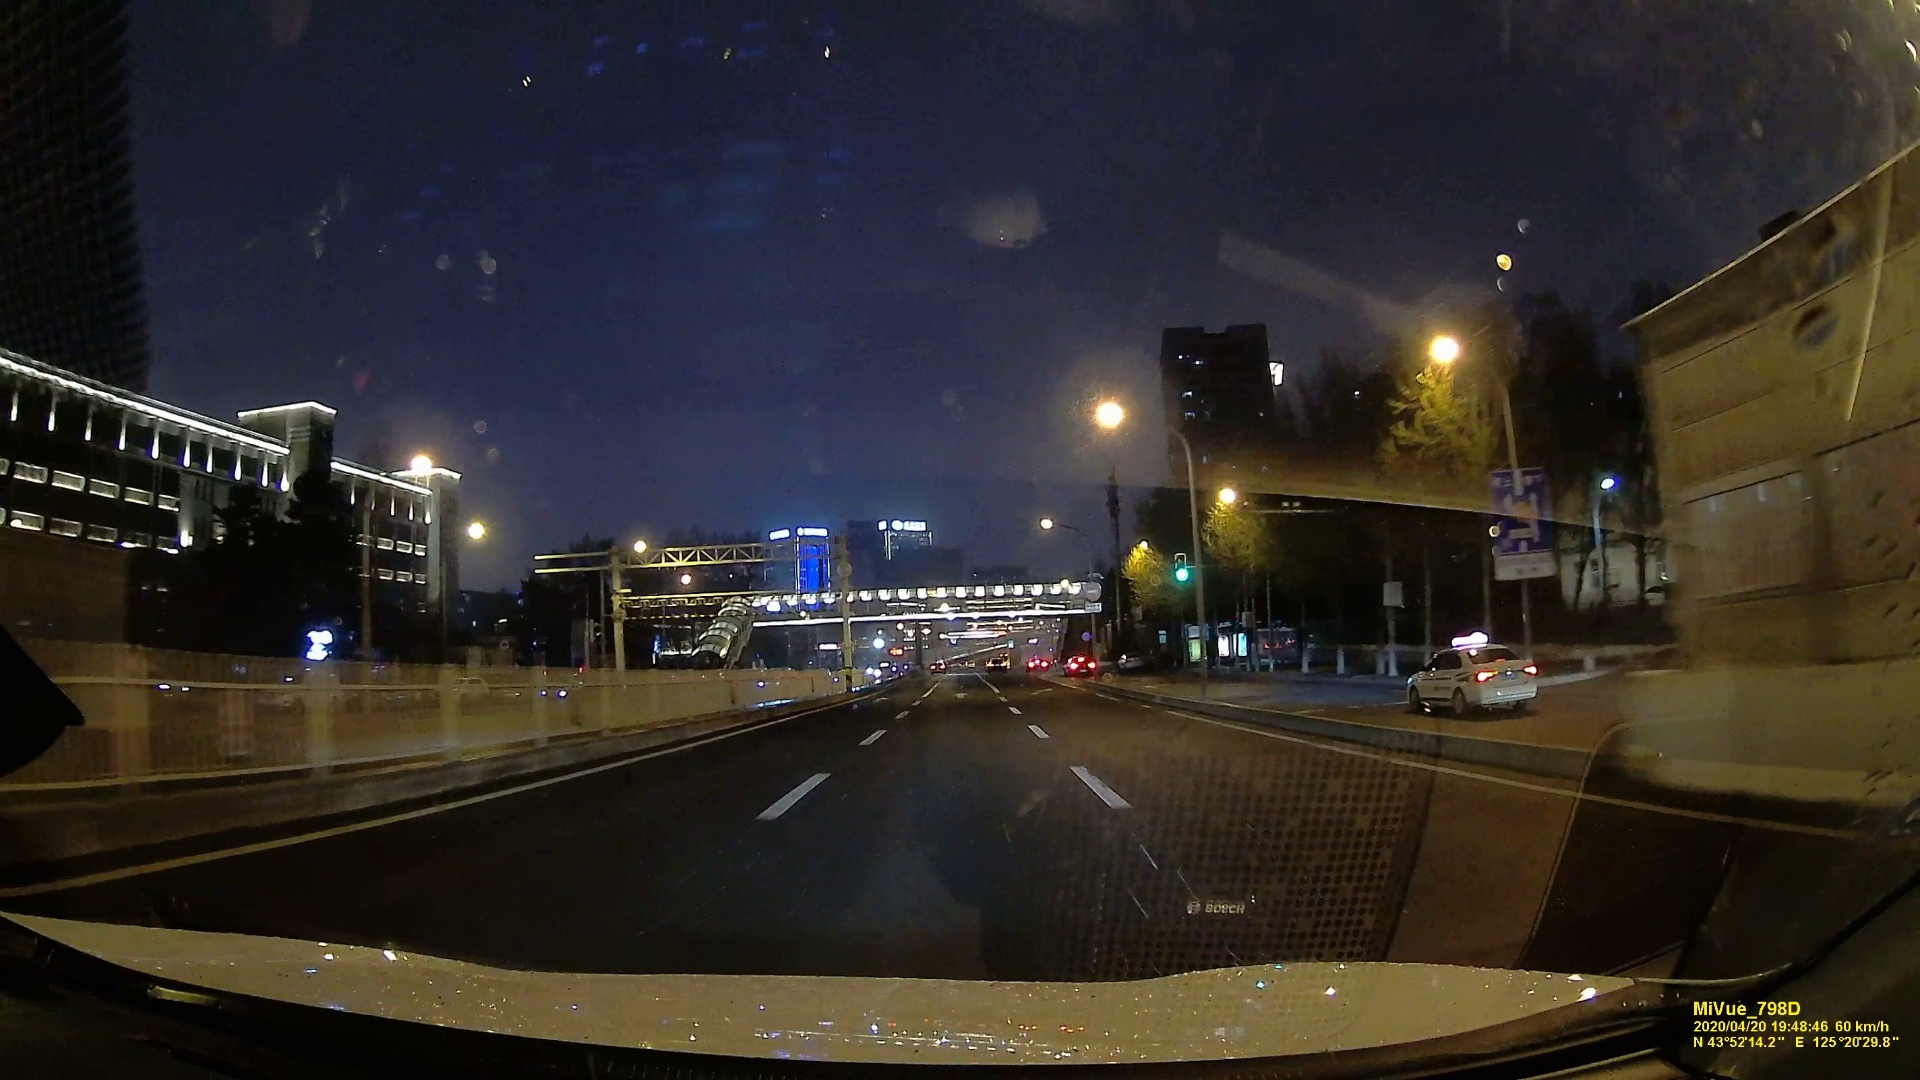traffic_sign: (1489, 471, 1553, 574), (1174, 553, 1189, 582), (1084, 603, 1102, 613)
vehicle: (1406, 642, 1544, 715), (1063, 655, 1096, 678)
